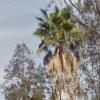Palm tree: (33, 1, 83, 99)
